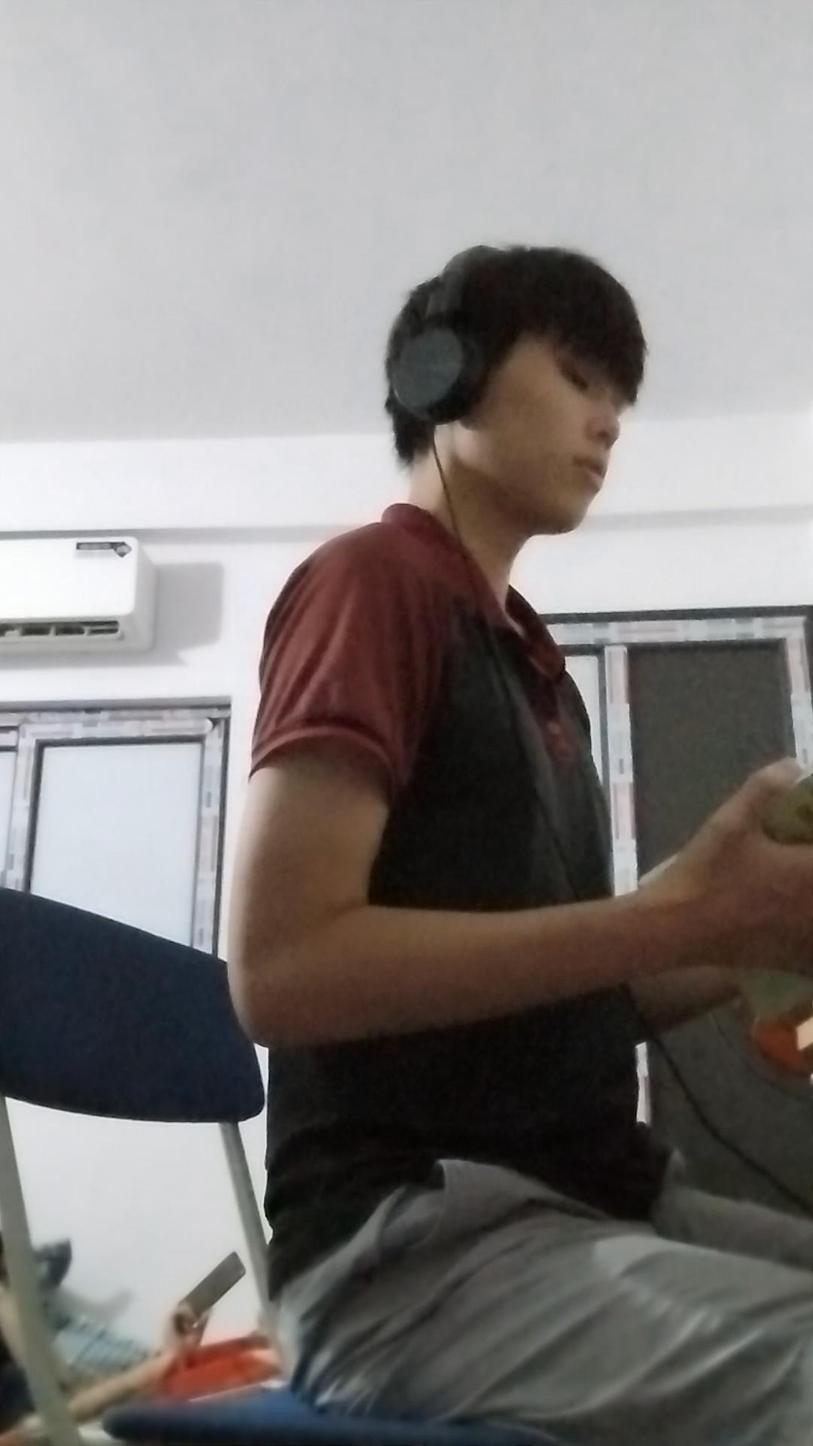GoodPosture: (228, 247, 812, 1445)
